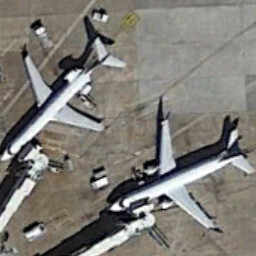Airplane: (104, 102, 255, 239), (1, 25, 133, 164)
